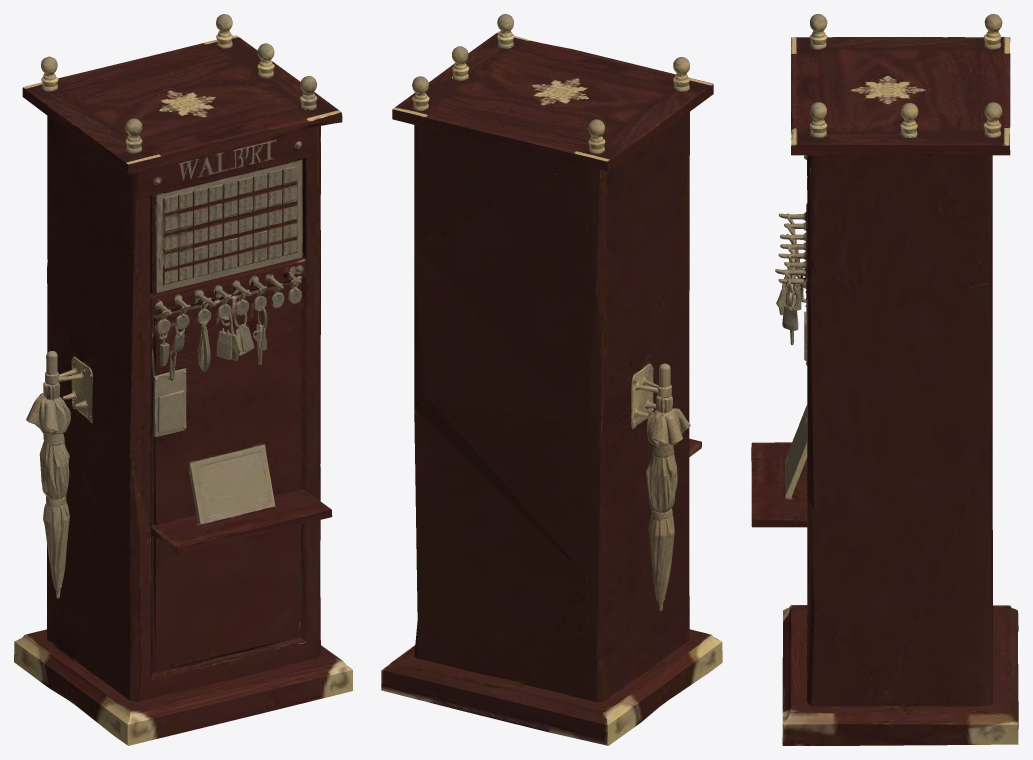
Rendered from valetStand.glb.
3 views of the same model, side by side, from view 1: azimuth 30°, elevation 25°; view 2: azimuth 150°, elevation 25°; view 3: azimuth 270°, elevation 25° (orthographic). The views are drawn at different scales.
Size of the model in its own units: 0.8364 by 1.9 by 0.7321.
1 material, 1 textured.
